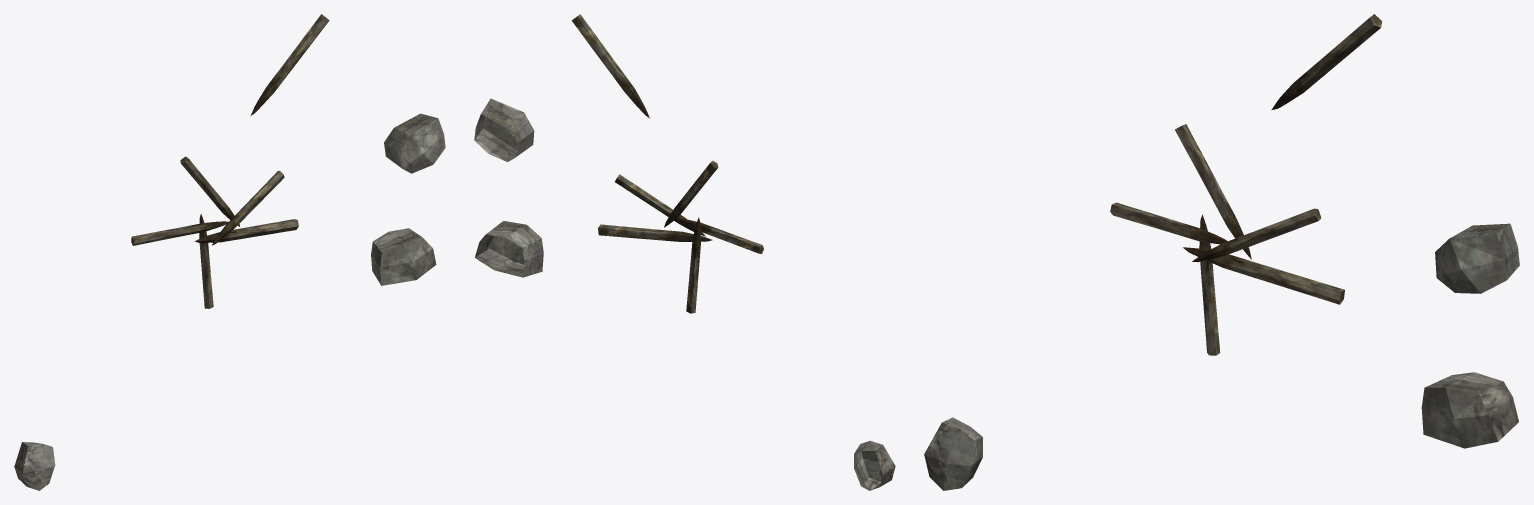
Rendered from zhanchang_fuben_191_gouhuodui_02.obj.
3 renders of one model, left to right at view 1: azimuth 30°, elevation 25°; view 2: azimuth 150°, elevation 25°; view 3: azimuth 330°, elevation 25°, orthographic. The views are drawn at different scales.
Parts seen in each view (by area): view 1: zhanchang_fuben_191_gouhuodui_02; view 2: zhanchang_fuben_191_gouhuodui_02; view 3: zhanchang_fuben_191_gouhuodui_02.
Boxes of the visible parts, left/top/right/bottom form: zhanchang_fuben_191_gouhuodui_02: left=14, top=14, right=445, bottom=490; zhanchang_fuben_191_gouhuodui_02: left=474, top=14, right=895, bottom=490; zhanchang_fuben_191_gouhuodui_02: left=924, top=14, right=1519, bottom=490.
Size of the model in its own units: 146 by 134 by 15.56.
Materials: 1 (1 with a texture image).
